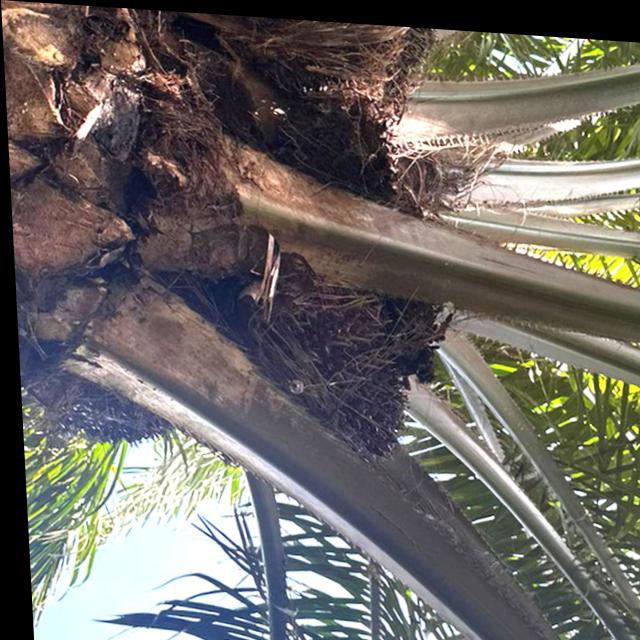ripe: (238, 263, 429, 462)
